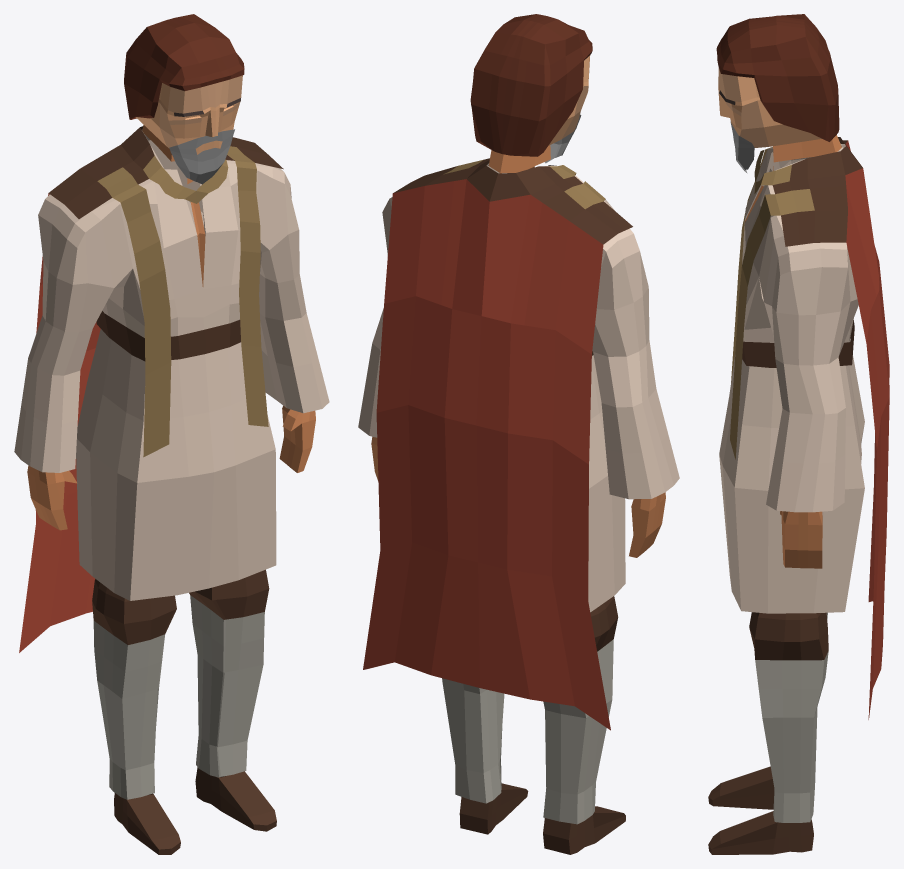
The model's file is feudal lord.fbx.
3 renders of one model, left to right at view 1: azimuth 30°, elevation 25°; view 2: azimuth 150°, elevation 25°; view 3: azimuth 270°, elevation 25°, orthographic. The views are drawn at different scales.
Visible parts, largest first — view 1: garments, garments.001, bady.001, bady, hair, head, belt, mustache; view 2: garments.001, garments, bady.001, hair, bady, head; view 3: garments, garments.001, bady.001, hair, bady, head, belt, mustache.
Boxes of the visible parts, <box> form: garments: <box>14,129,329,600</box>; garments.001: <box>19,126,283,652</box>; bady.001: <box>92,569,269,799</box>; bady: <box>27,125,315,854</box>; hair: <box>124,14,244,119</box>; head: <box>136,75,242,154</box>; belt: <box>96,311,240,361</box>; mustache: <box>169,129,234,184</box>; garments.001: <box>363,158,632,730</box>; garments: <box>358,163,679,612</box>; bady.001: <box>442,596,618,824</box>; hair: <box>470,14,592,156</box>; bady: <box>371,145,665,854</box>; head: <box>548,55,590,145</box>; garments: <box>719,144,864,613</box>; garments.001: <box>730,137,889,719</box>; bady.001: <box>749,612,828,822</box>; hair: <box>716,14,839,141</box>; bady: <box>708,135,841,854</box>; head: <box>718,67,821,147</box>; belt: <box>742,320,854,367</box>; mustache: <box>730,121,754,173</box>.
Bounding box in the file's own units: 313 × 806 × 164.
